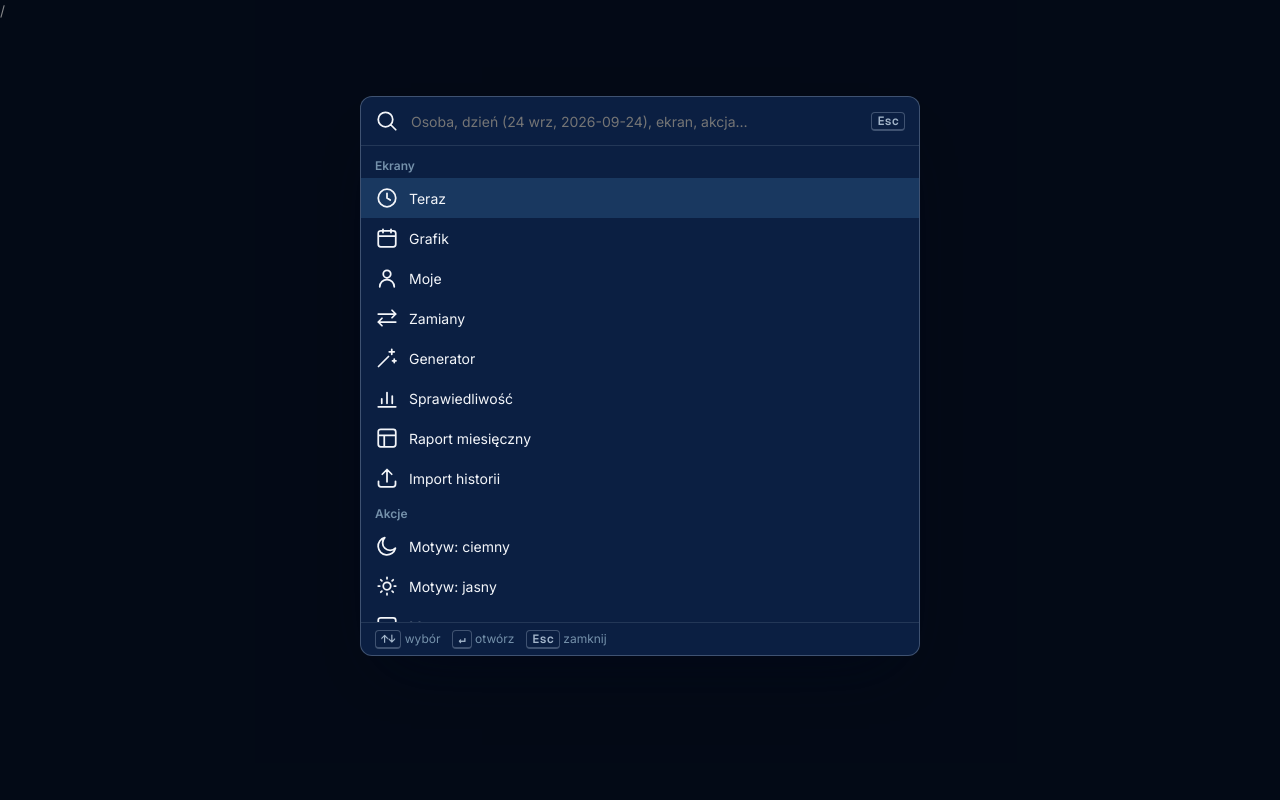
Test: CommandPalette › moves through the list with the arrows and the pointer, and opens a screen
The width and height of the screenshot is (1280, 800).
Press ArrowDown in the dropdown, box [409,110,861,132]
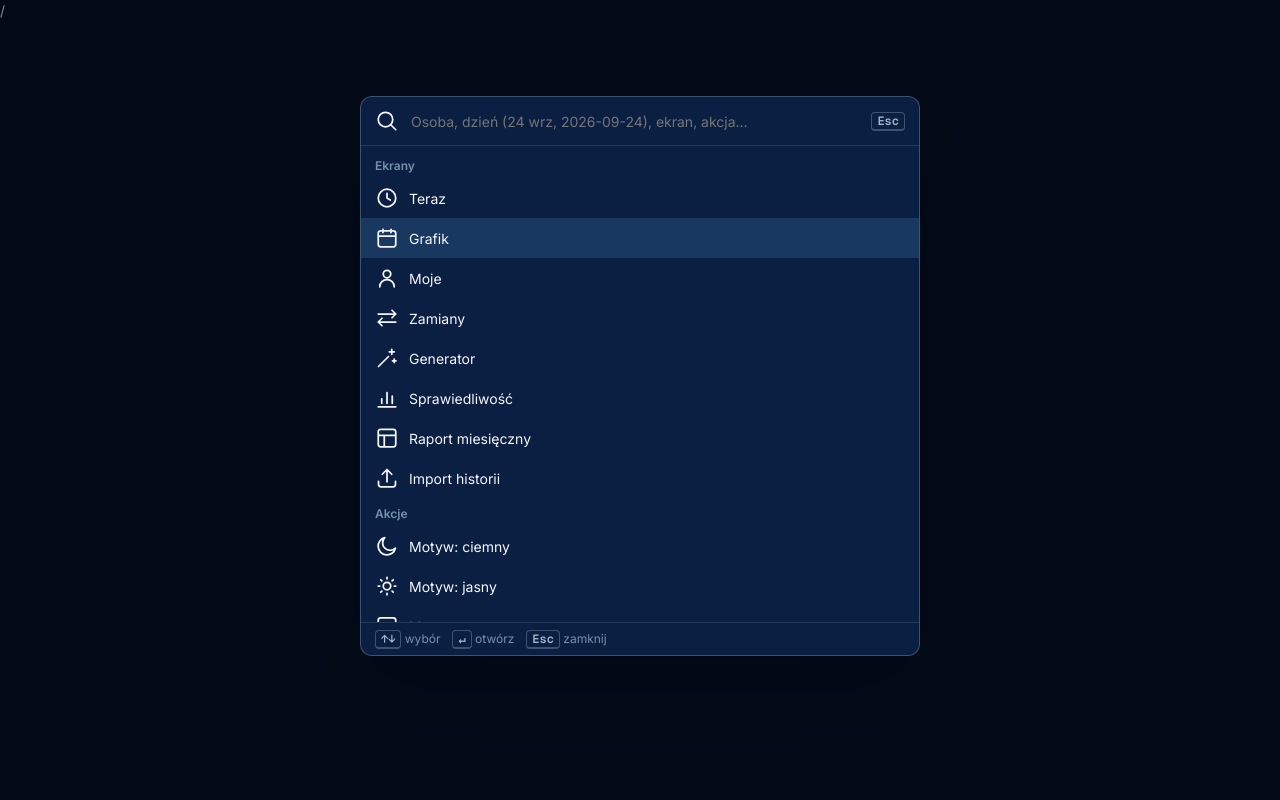
Press ArrowDown in the dropdown, box [409,110,861,132]
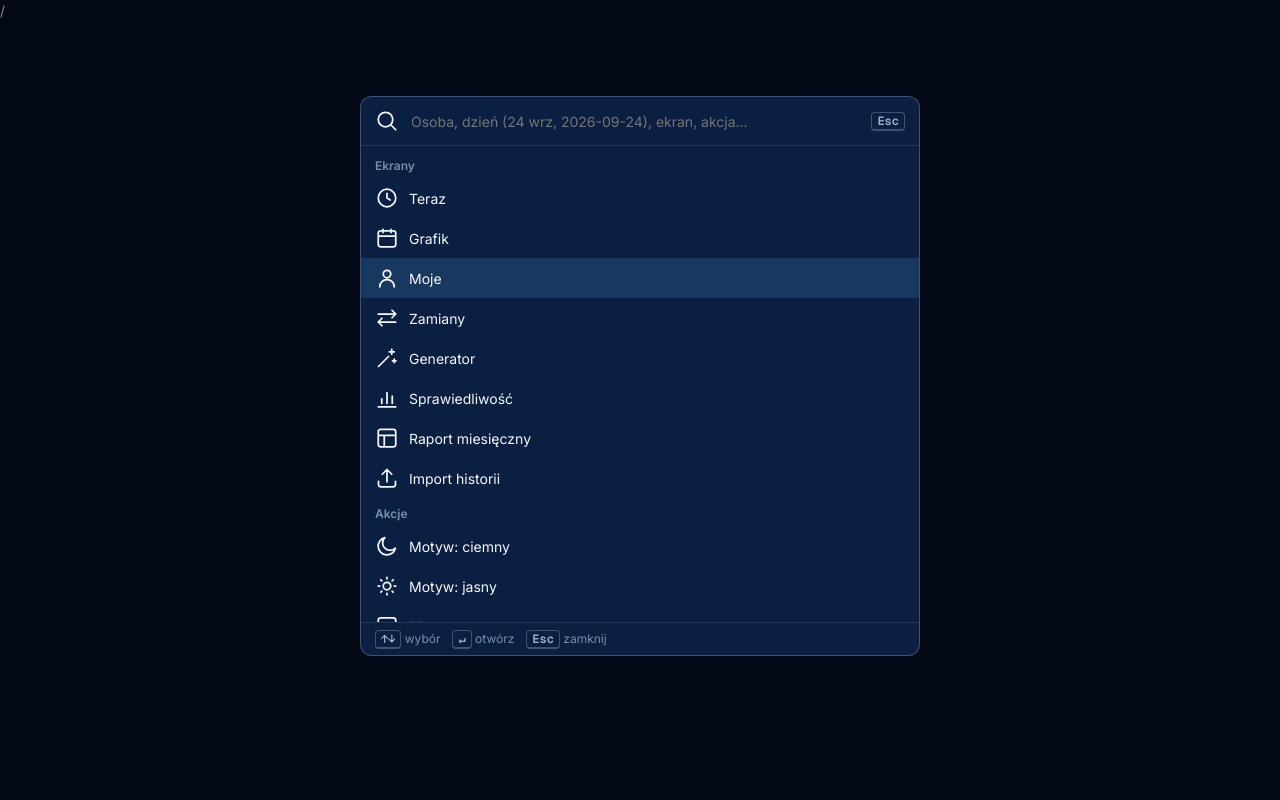
expect the option "Moje" is selected: met, box [361,258,919,298]
Press ArrowUp in the dropdown, box [409,110,861,132]
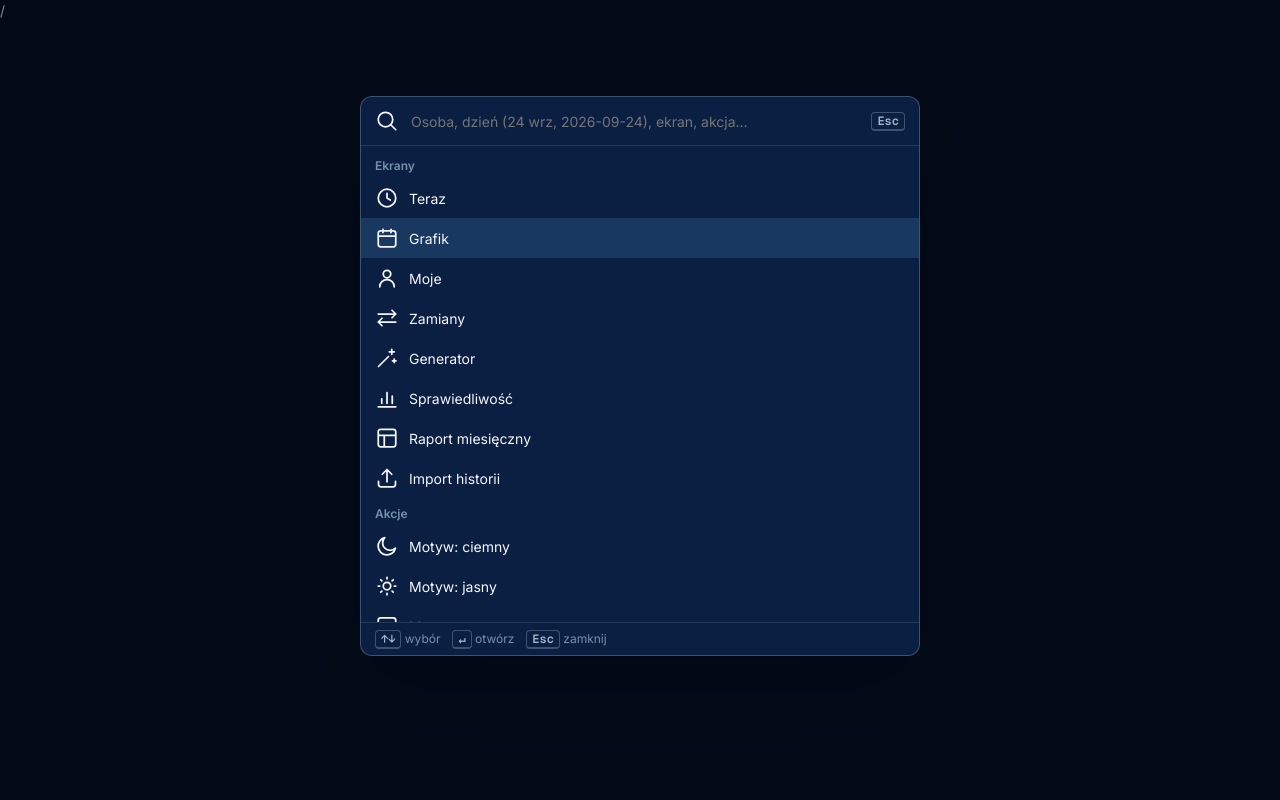
expect the option "Grafik" is selected: met, box [361,218,919,258]
// Any other key only types.
Press a in the dropdown, box [409,110,861,132]
expect the option "Grafik" is selected: met, box [361,218,919,258]
Hover over the option "Sprawiedliwość".
mouse_move(444, 398)  # box [375,386,513,410]
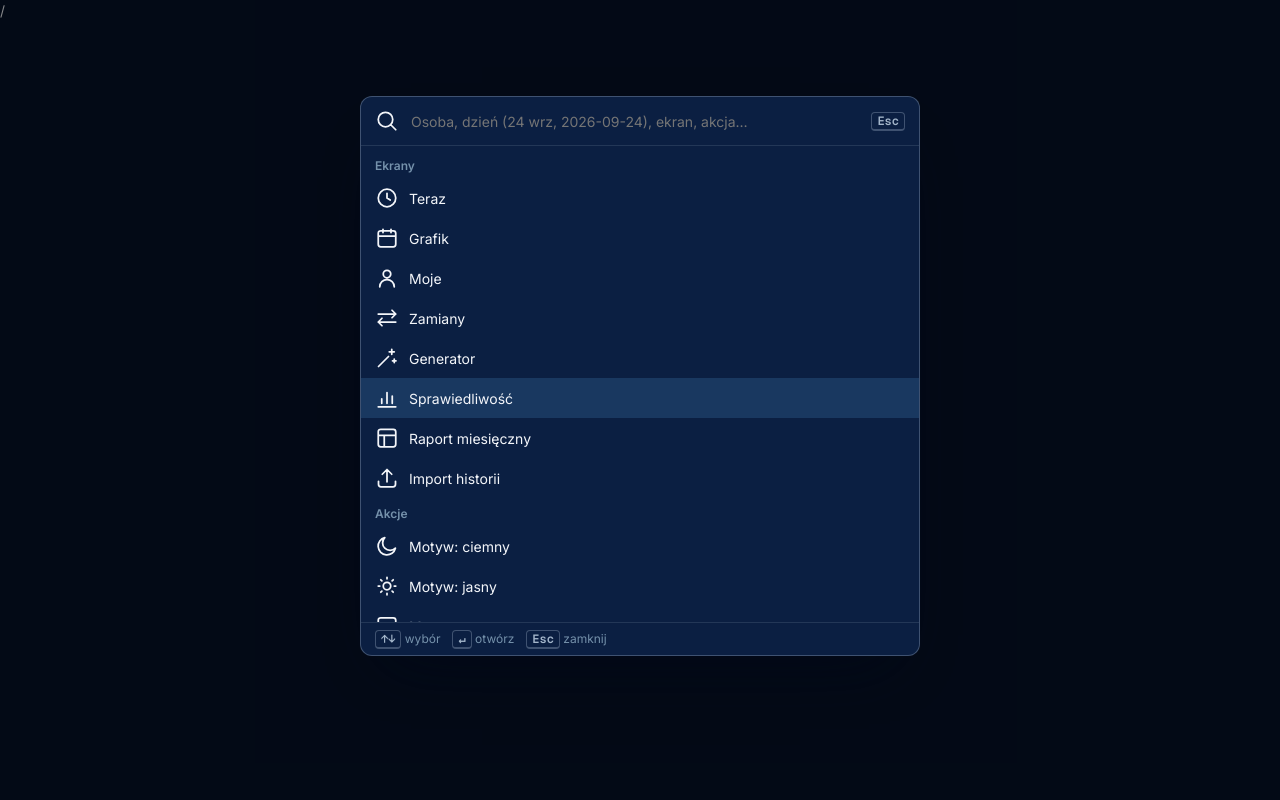
expect the option "Sprawiedliwość" is selected: met, box [361,378,919,418]
Press Enter in the dropdown, box [409,110,861,132]
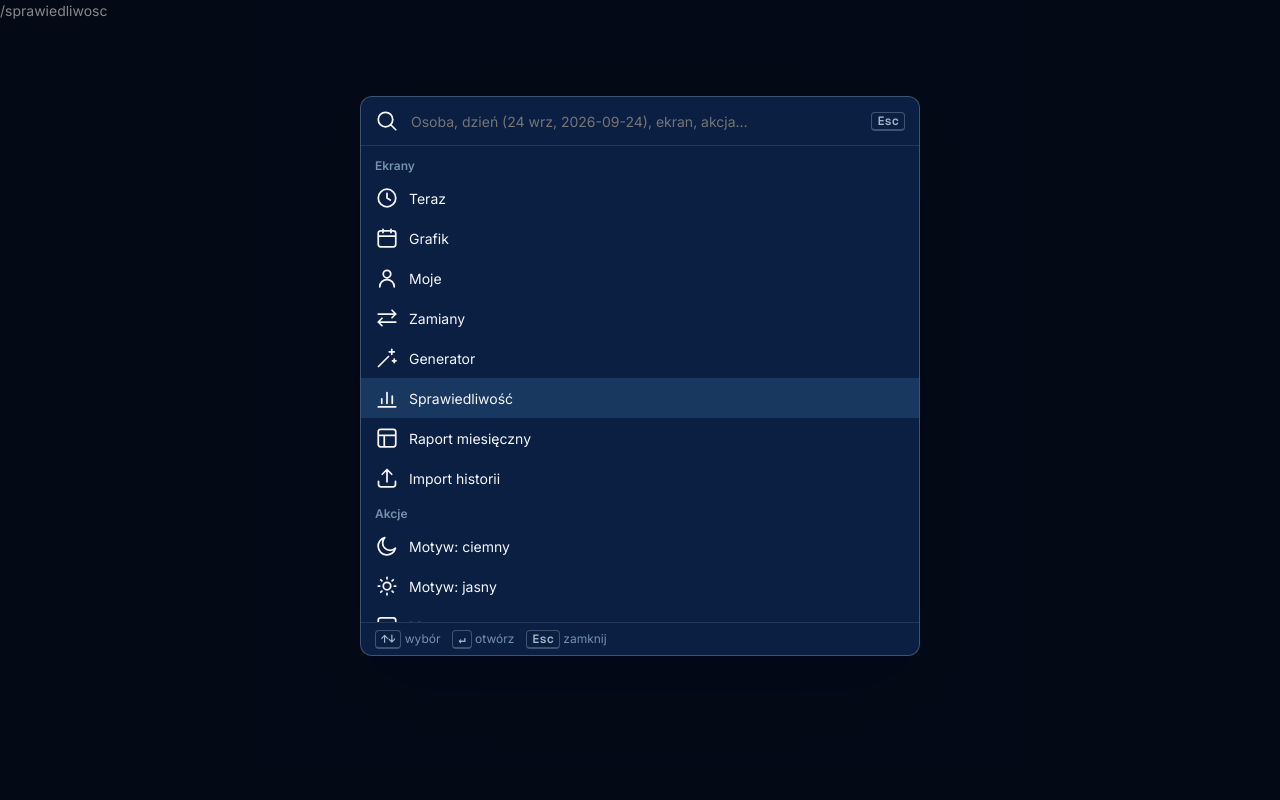
expect the text with test id "path" reads "/sprawiedliwosc": met, box [0,2,108,19]
